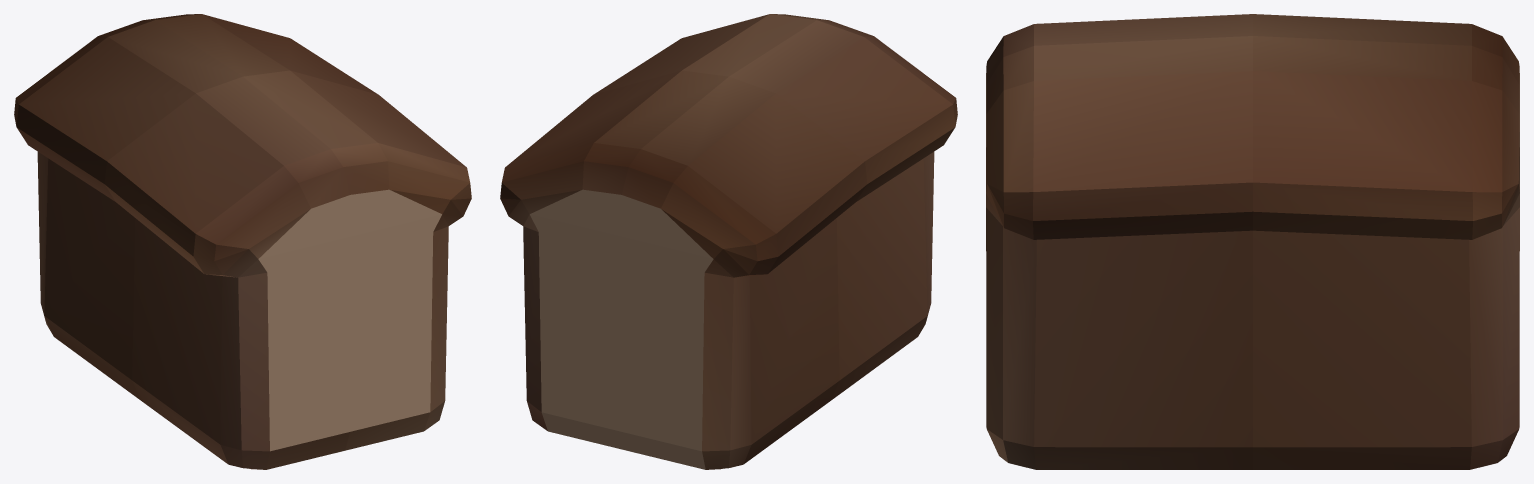
The model's file is Food_BreadLoafA.fbx.
3 views of the same model, side by side, from view 1: azimuth 30°, elevation 25°; view 2: azimuth 150°, elevation 25°; view 3: azimuth 270°, elevation 25° (orthographic). The views are drawn at different scales.
Visible parts, largest first — view 1: Food_BreadLoafA; view 2: Food_BreadLoafA; view 3: Food_BreadLoafA.
Boxes of the visible parts, x1,y1,x2,y2 form: Food_BreadLoafA: [14, 14, 471, 469]; Food_BreadLoafA: [500, 14, 957, 469]; Food_BreadLoafA: [986, 14, 1519, 469].
Size of the model in its own units: 17.57 by 18.73 by 23.61.
